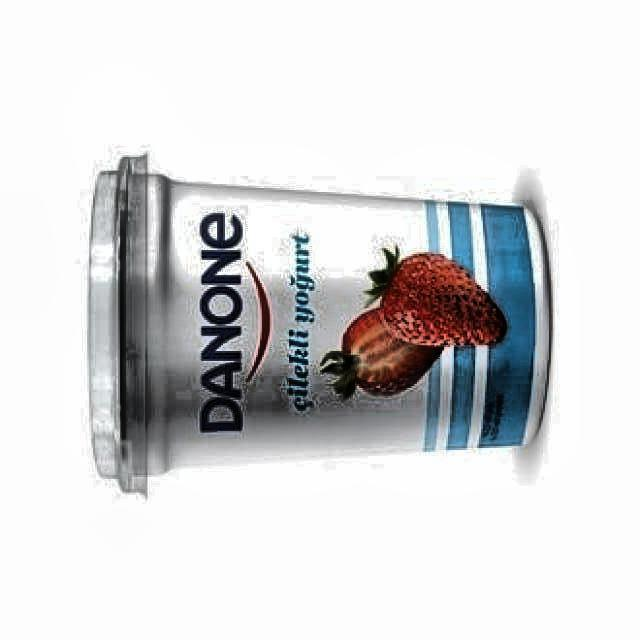plastic: (89, 158, 550, 491)
